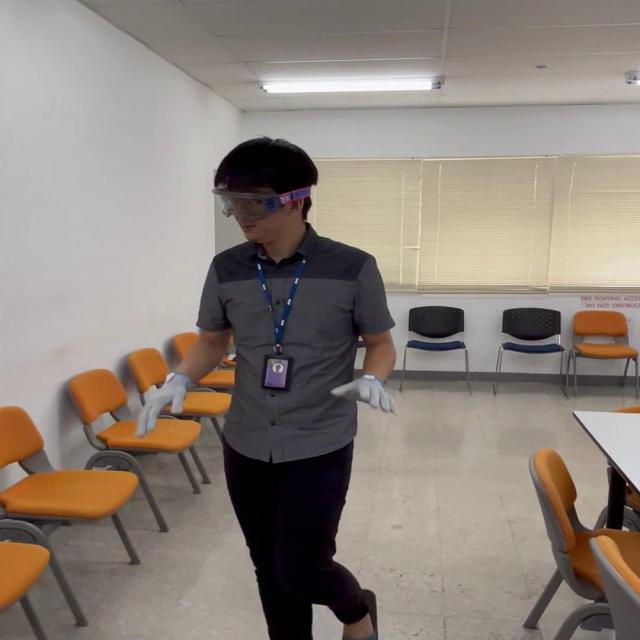gloved_hand: (136, 370, 194, 438), (340, 364, 395, 412)
